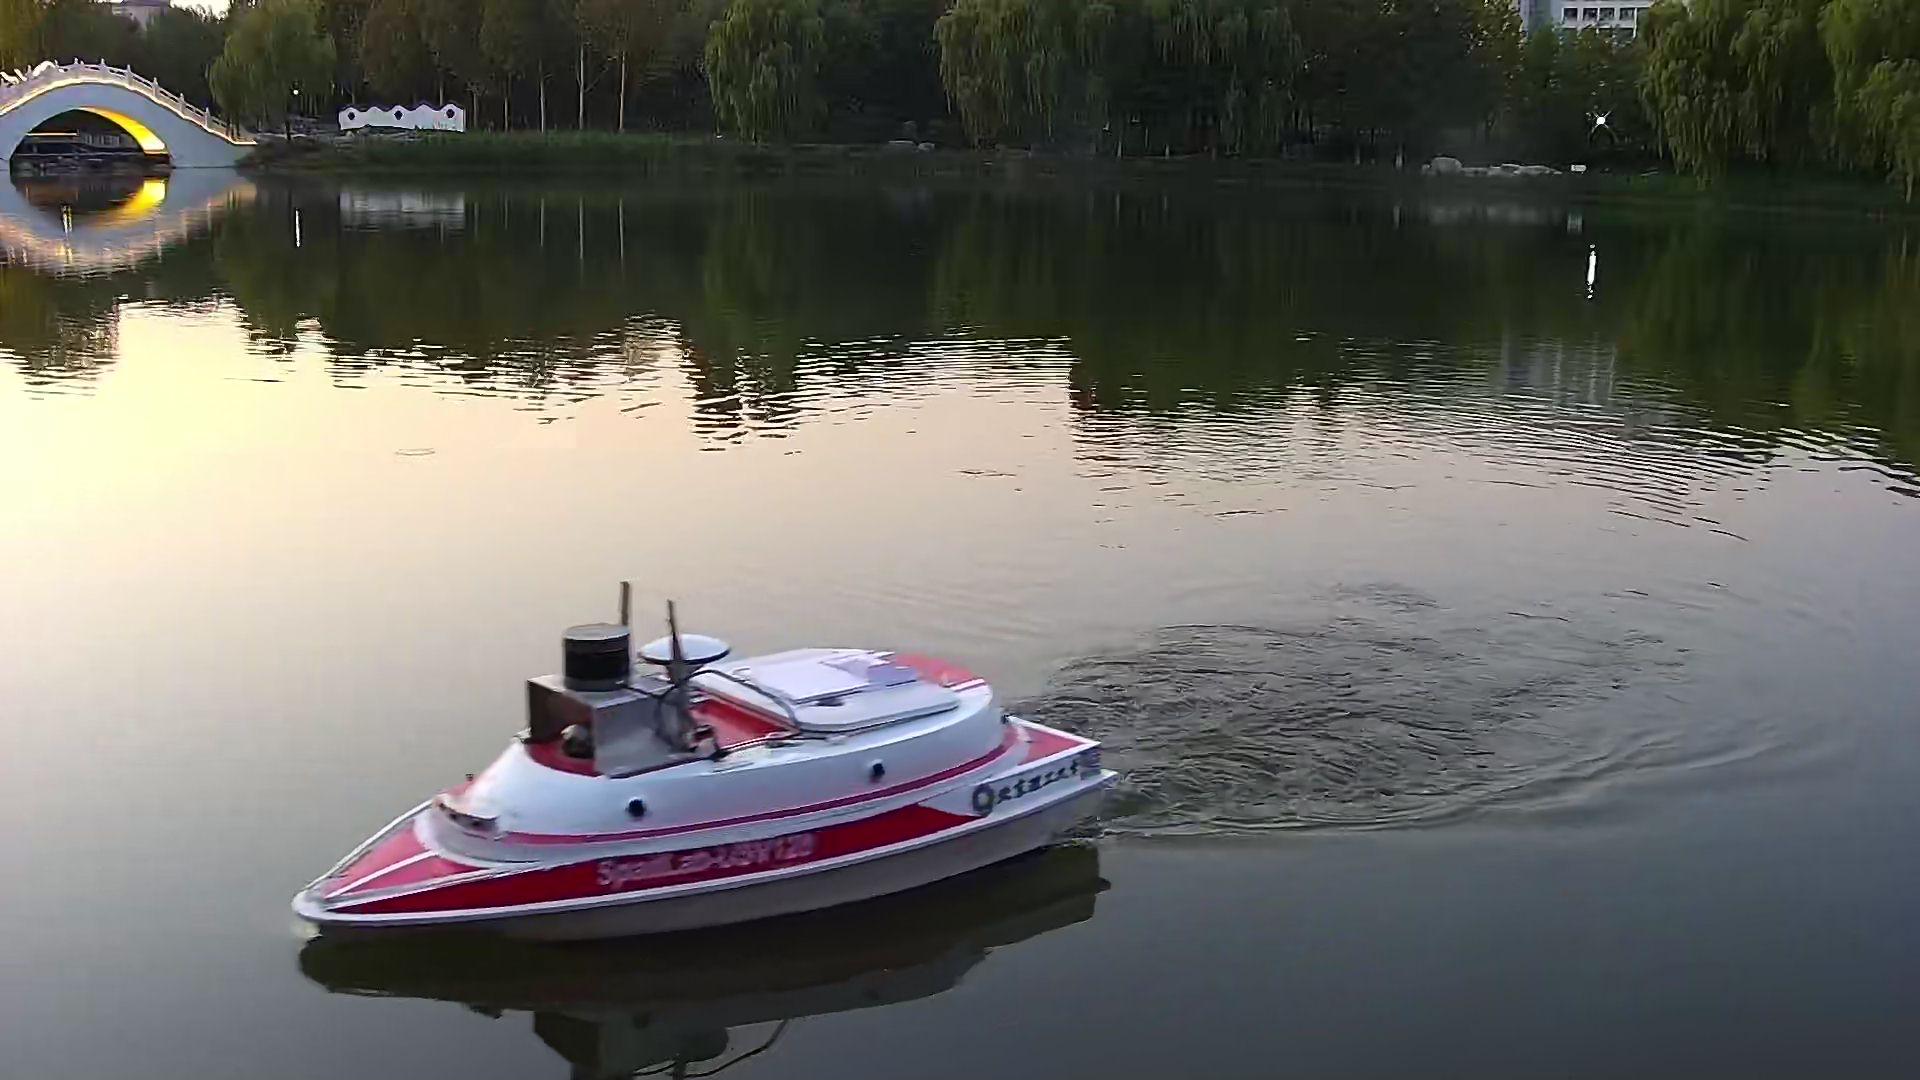boat: (277, 583, 1113, 945)
bridge: (3, 55, 252, 171)
rock: (1418, 152, 1571, 183)
